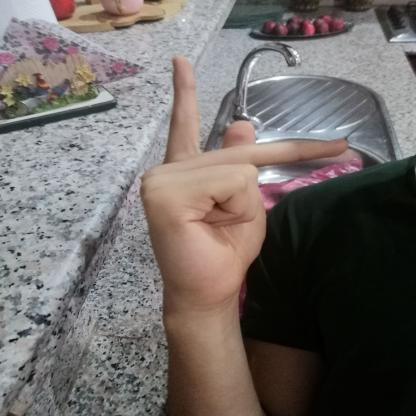DHAA: (125, 46, 363, 316)
